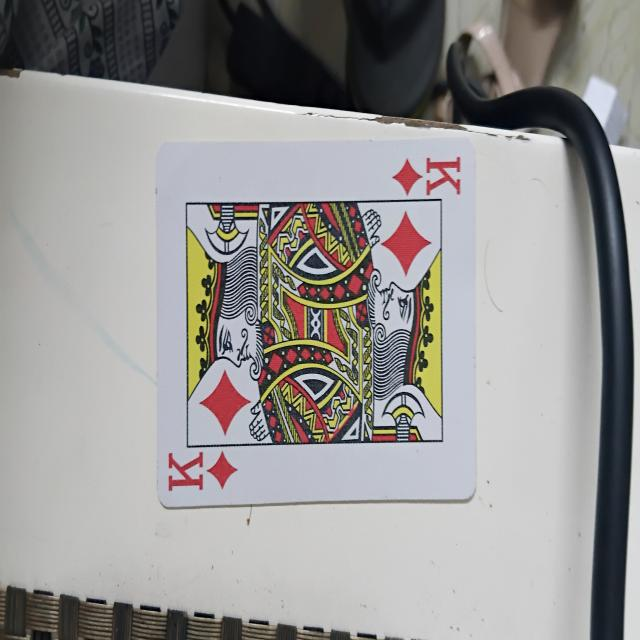KD: (157, 140, 476, 500)
